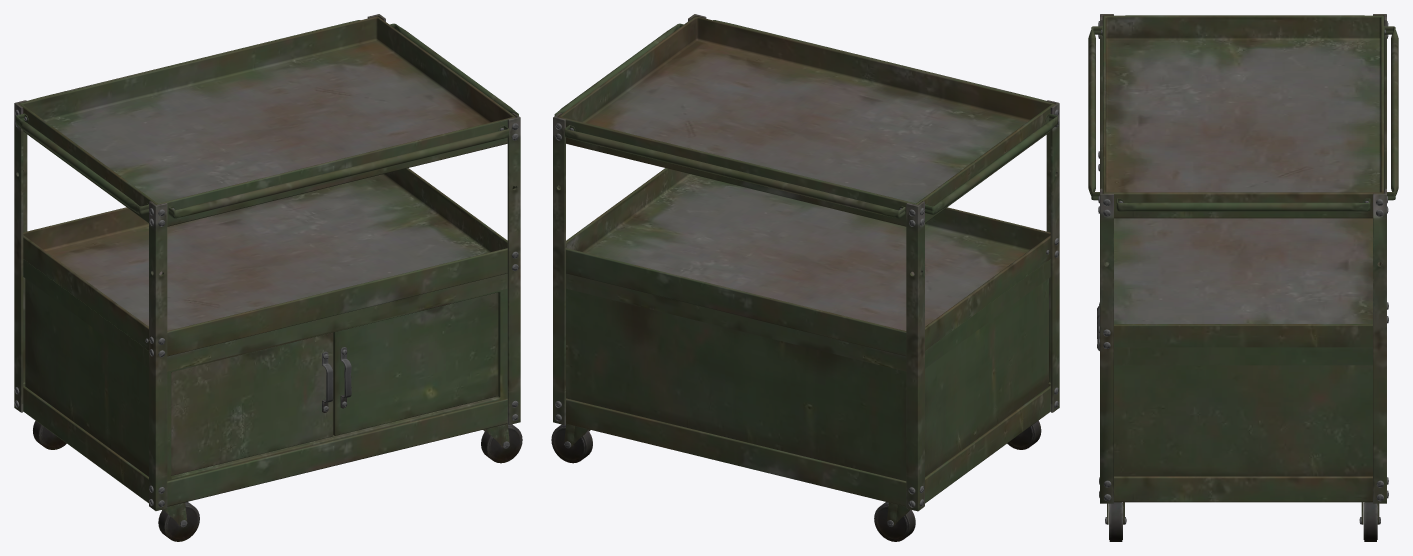
File: industrial_storage_cart.glb
3 renders of one model, left to right at view 1: azimuth 30°, elevation 25°; view 2: azimuth 150°, elevation 25°; view 3: azimuth 270°, elevation 25°, orthographic.
Parts seen in each view (by area): view 1: industrial_storage_cart; view 2: industrial_storage_cart; view 3: industrial_storage_cart.
Boxes of the visible parts, <box> form: industrial_storage_cart: <box>14,14,522,541</box>; industrial_storage_cart: <box>551,14,1059,541</box>; industrial_storage_cart: <box>1088,14,1398,541</box>.
Bounding box in the file's own units: 1.6 × 1.38 × 1.1.
1 material, 1 textured.
